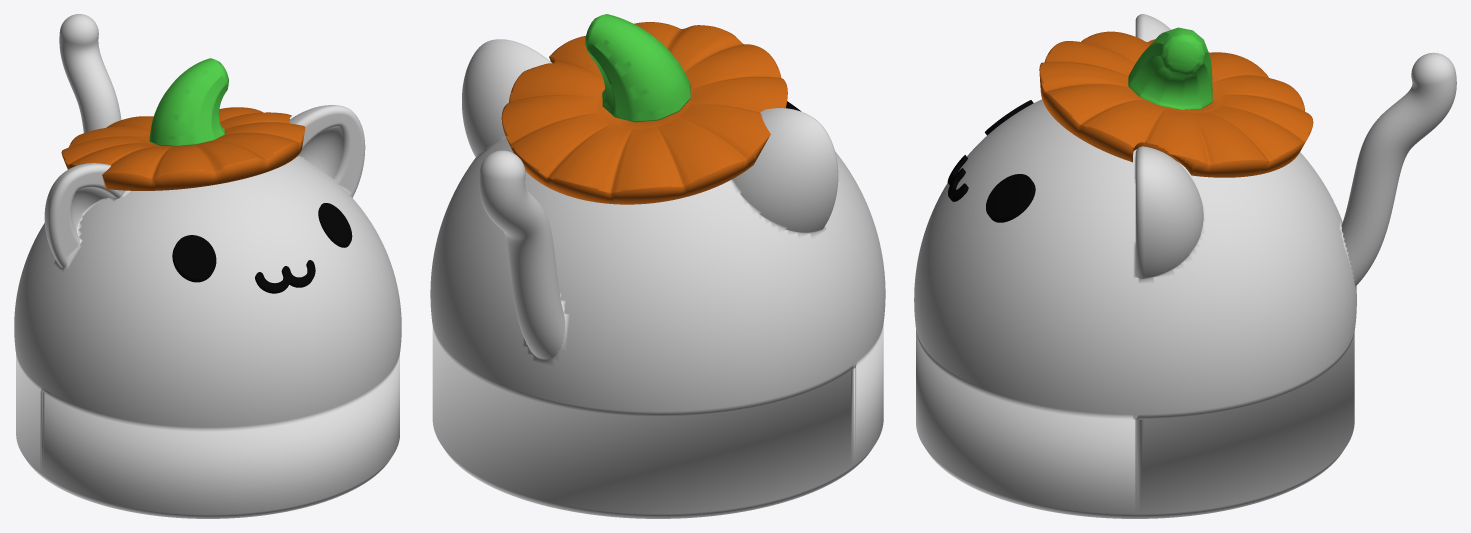
The model's file is cat-pum3.glb.
3 renders of one model, left to right at view 1: azimuth 30°, elevation 25°; view 2: azimuth 150°, elevation 25°; view 3: azimuth 270°, elevation 25°, orthographic. The views are drawn at different scales.
Parts seen in each view (by area): view 1: o.o; view 2: o.o; view 3: o.o.
Part boxes in pixels (left/top/right/bottom): o.o: left=14, top=14, right=401, bottom=518; o.o: left=430, top=14, right=885, bottom=518; o.o: left=914, top=14, right=1456, bottom=518.
Bounding box in the file's own units: 29.75 × 30.31 × 36.46.
